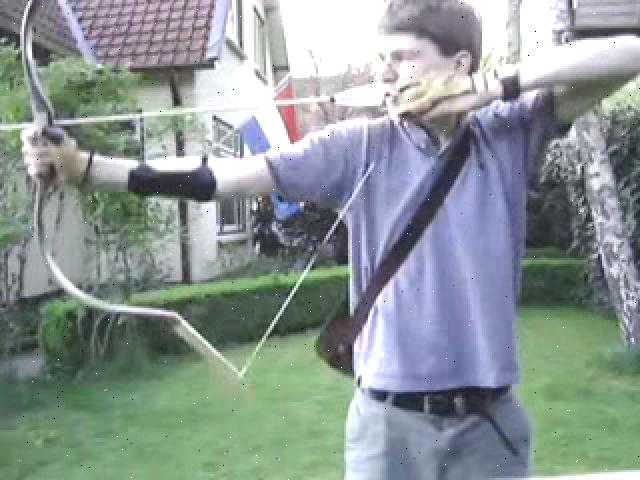P: (21, 7, 548, 476)
